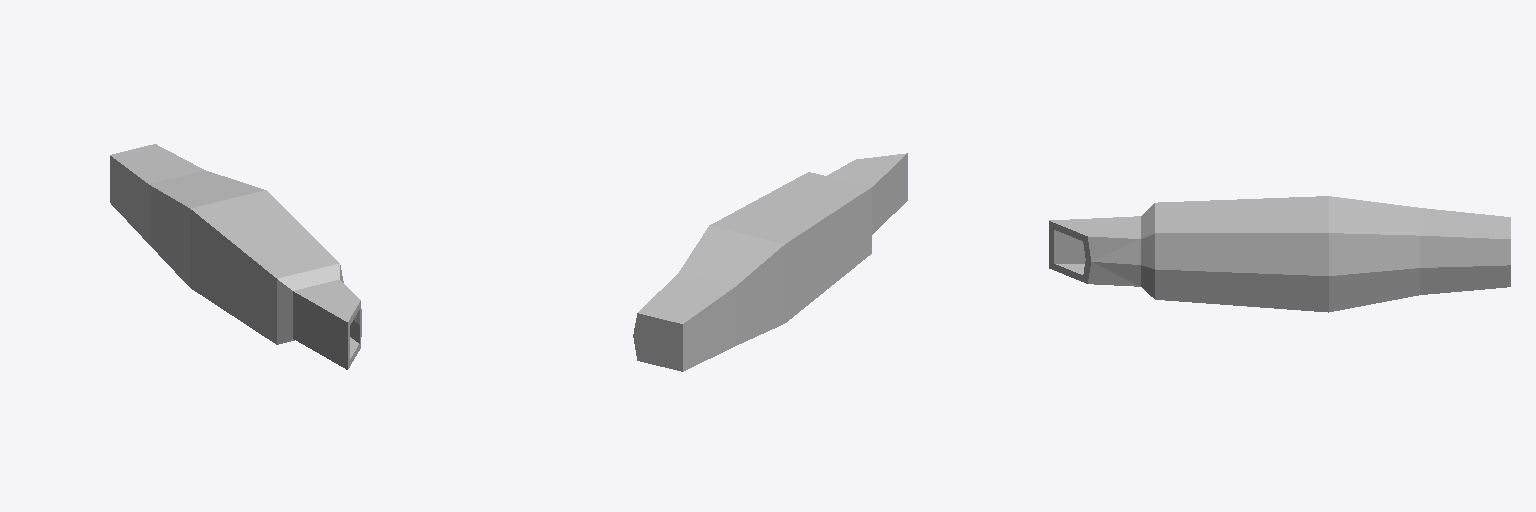
File: right_upper_leg.obj
The picture shows the model from 3 angles: view 1: azimuth 30°, elevation 25°; view 2: azimuth 150°, elevation 25°; view 3: azimuth 270°, elevation 25°; orthographic projection.
Visible parts, largest first — view 1: cube2; view 2: cube2; view 3: cube2.
Boxes of the visible parts, <box> form: cube2: <box>110,144,361,369</box>; cube2: <box>633,153,907,371</box>; cube2: <box>1049,196,1510,312</box>.
Bounding box in the file's own units: 0.1051 × 0.096 × 0.5065.